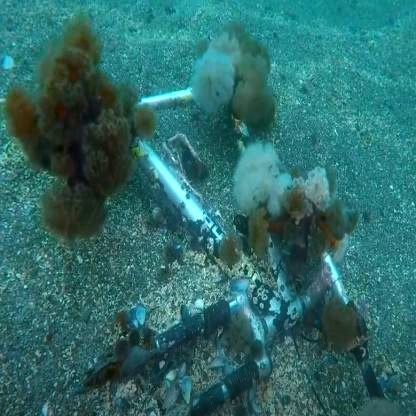electronics: (105, 207, 314, 379)
